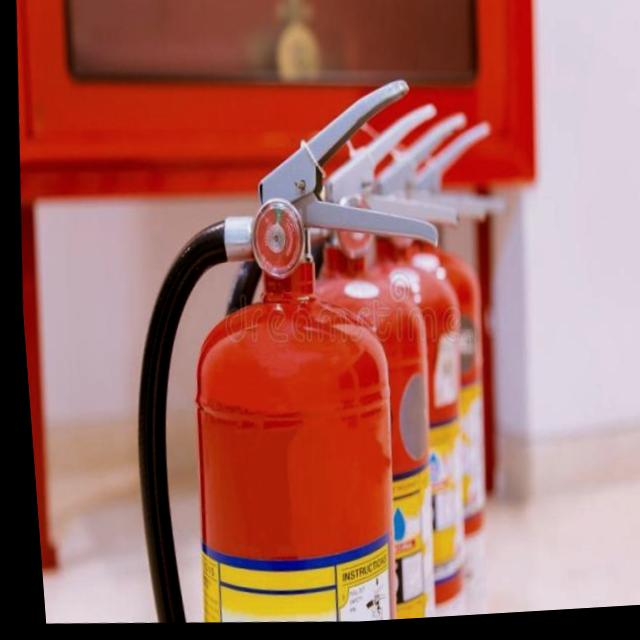FireExtinguisher: (92, 59, 467, 636)
